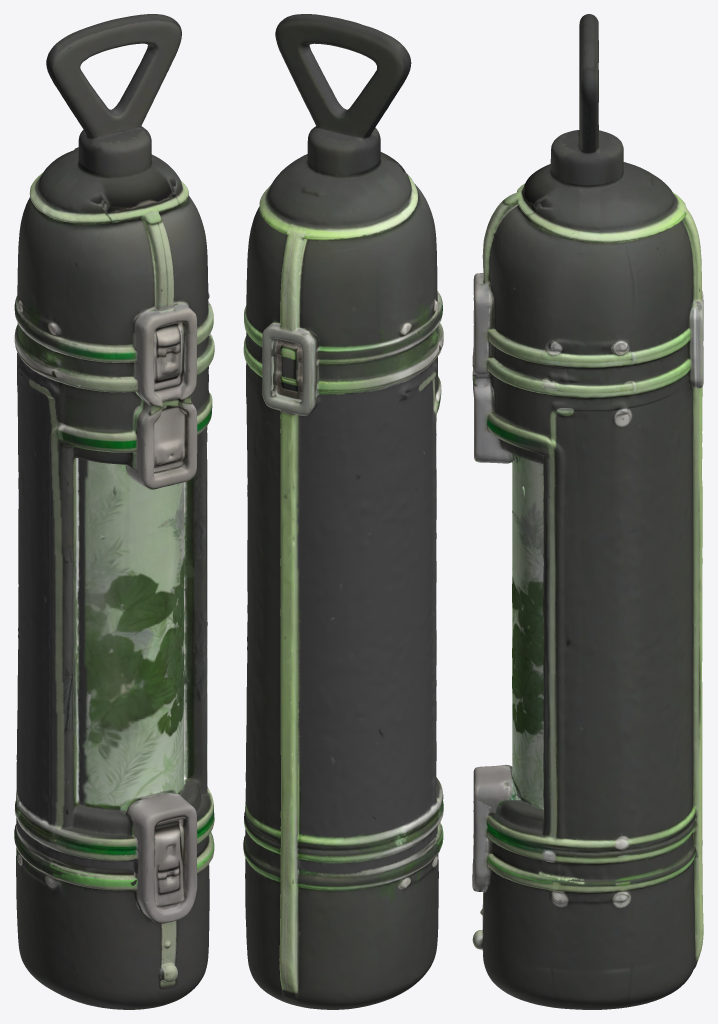
The model's file is Arc6A.fbx.
3 views of the same model, side by side, from view 1: azimuth 30°, elevation 25°; view 2: azimuth 150°, elevation 25°; view 3: azimuth 270°, elevation 25° (orthographic).
Parts seen in each view (by area): view 1: Mesh_0; view 2: Mesh_0; view 3: Mesh_0.
Part boxes in pixels (x1,y1,x2,y2): Mesh_0: (14, 14, 214, 1009); Mesh_0: (243, 14, 443, 1009); Mesh_0: (472, 14, 703, 1009).
Bounding box in the file's own units: 32.97 × 181 × 39.83.
1 material, 1 textured.
